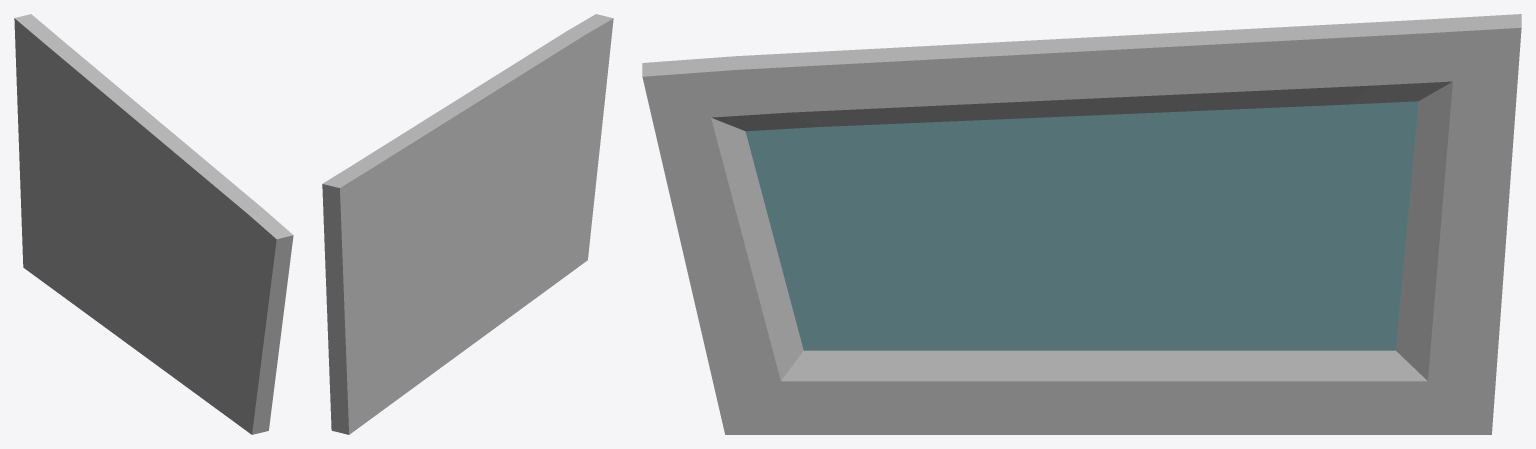
File: AirportHangedMonitor.fbx
3 views of the same model, side by side, from view 1: azimuth 30°, elevation 25°; view 2: azimuth 150°, elevation 25°; view 3: azimuth 270°, elevation 25° (orthographic). The views are drawn at different scales.
Visible parts, largest first — view 1: Monitor1; view 2: Monitor1; view 3: Monitor1.
Boxes of the visible parts, x1,y1,x2,y2 form: Monitor1: [14, 14, 293, 434]; Monitor1: [322, 14, 613, 434]; Monitor1: [642, 14, 1521, 434].
Size of the model in its own units: 0.3807 by 5.24 by 10.26.
